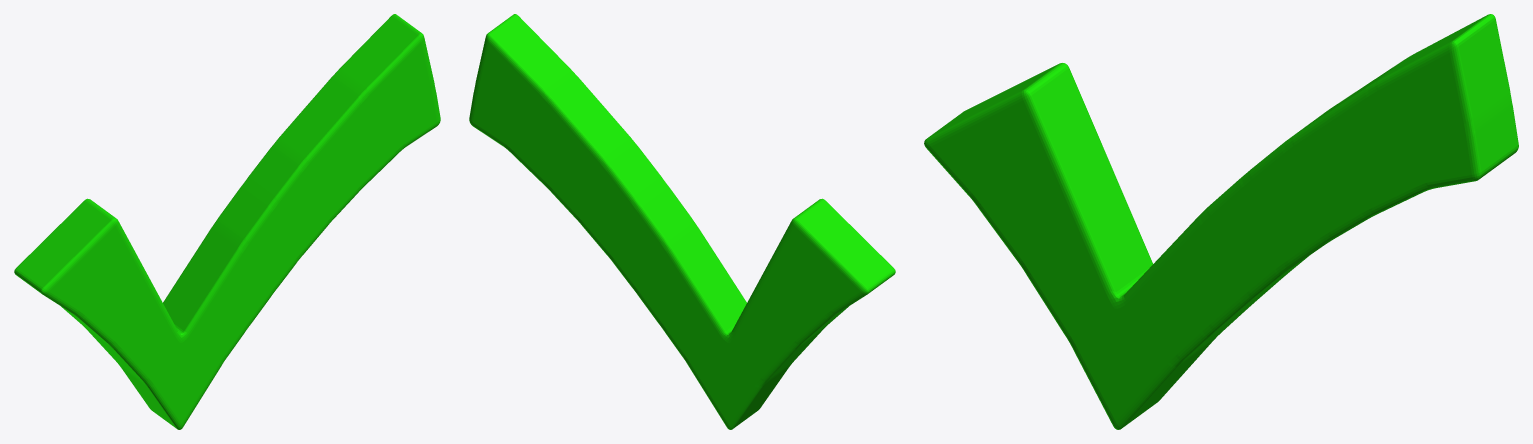
Rendered from checkmark.glb.
3 views of the same model, side by side, from view 1: azimuth 30°, elevation 25°; view 2: azimuth 150°, elevation 25°; view 3: azimuth 330°, elevation 25° (orthographic). The views are drawn at different scales.
Parts seen in each view (by area): view 1: Object_2; view 2: Object_2; view 3: Object_2.
Part boxes in pixels (bbox=[...]): Object_2: bbox=[14, 14, 440, 429]; Object_2: bbox=[469, 14, 895, 429]; Object_2: bbox=[924, 14, 1518, 429].
Bounding box in the file's own units: 8.61 × 6.95 × 1.12.
